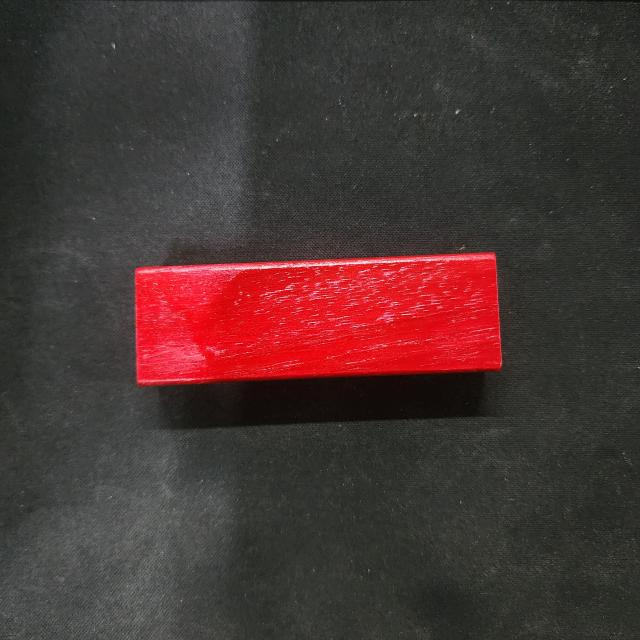red: (132, 252, 502, 386)
